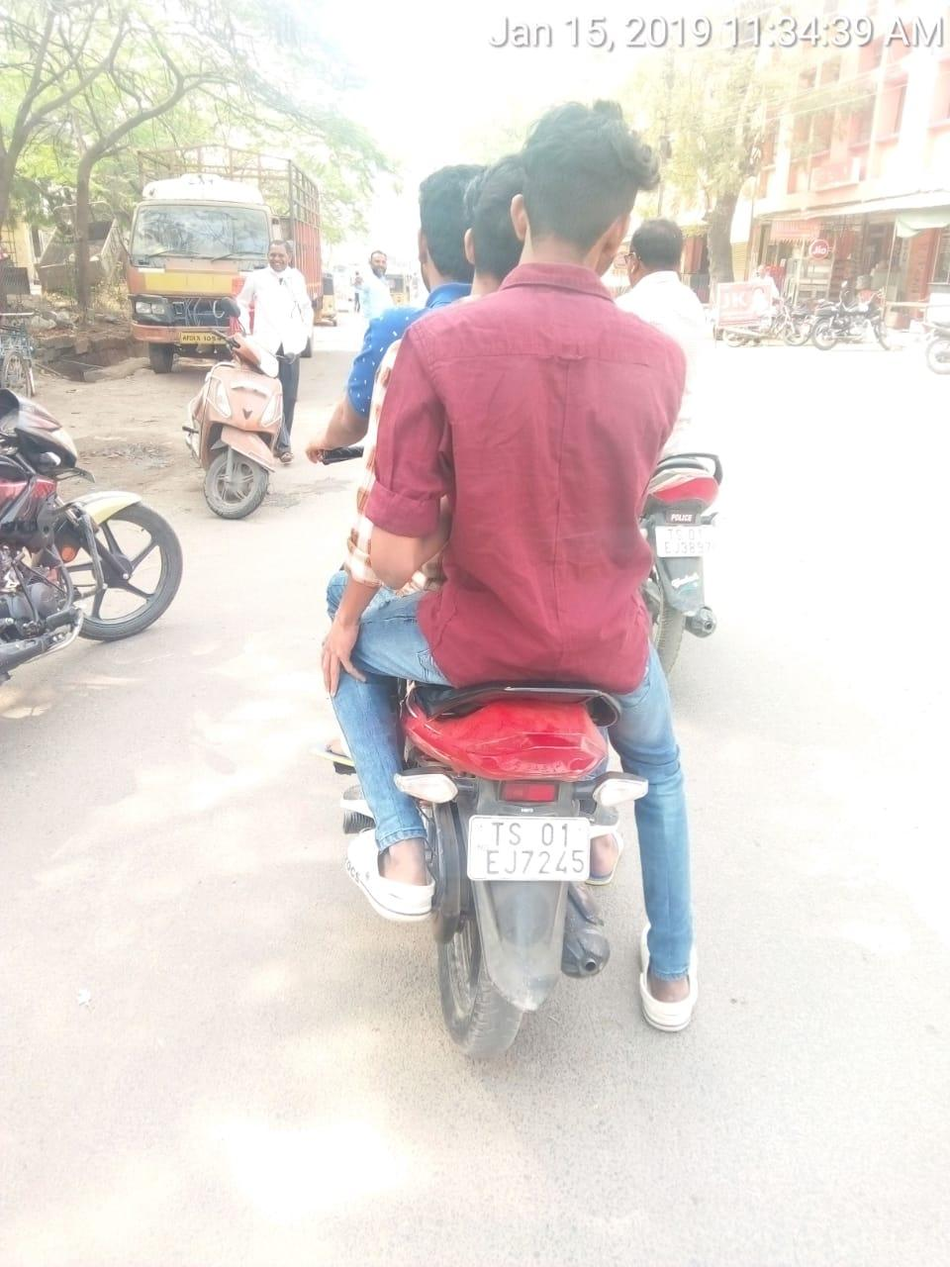plate: (461, 809, 589, 889)
